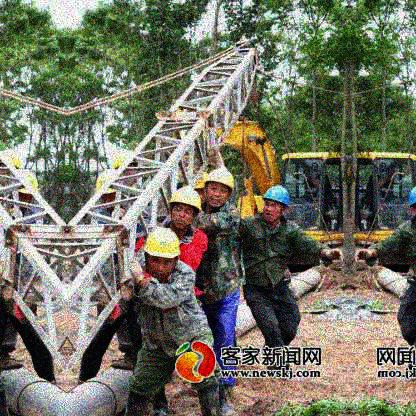helmet: (146, 227, 182, 281), (171, 184, 202, 232), (204, 168, 236, 209), (95, 169, 120, 211), (261, 186, 287, 224), (16, 167, 38, 211), (407, 185, 416, 220)
